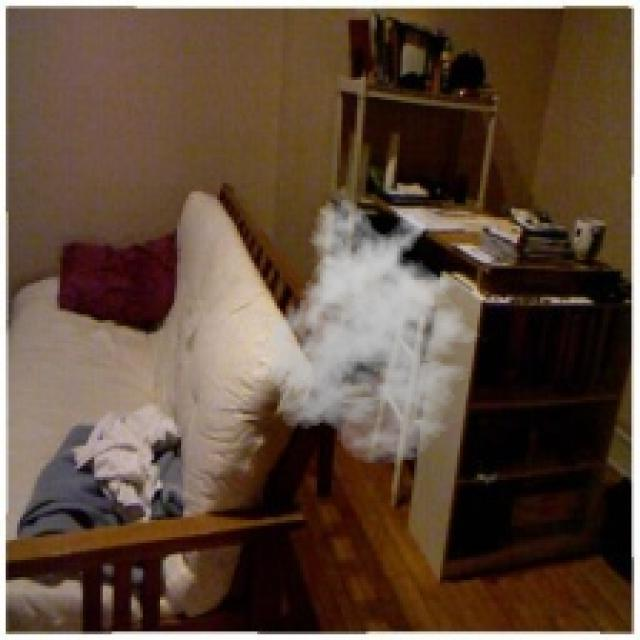Smoke: (252, 197, 492, 466)
